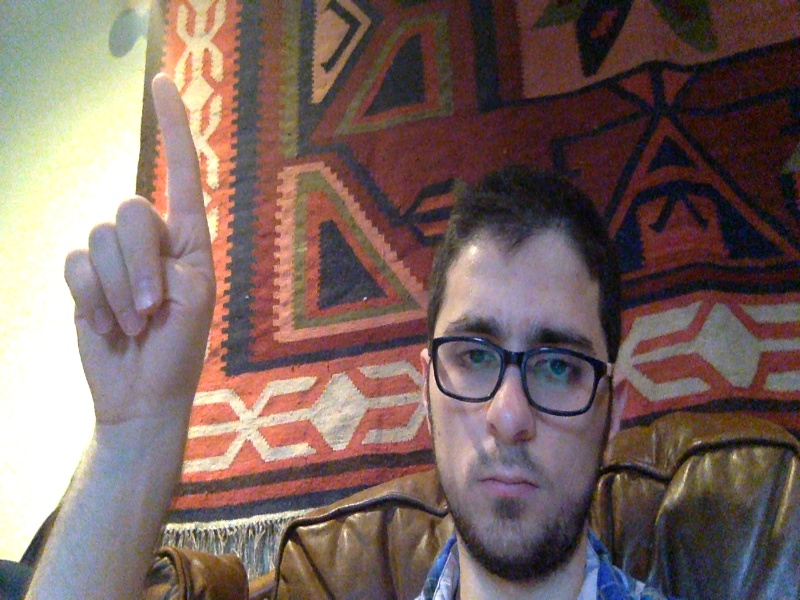1-hand: (63, 74, 216, 422)
